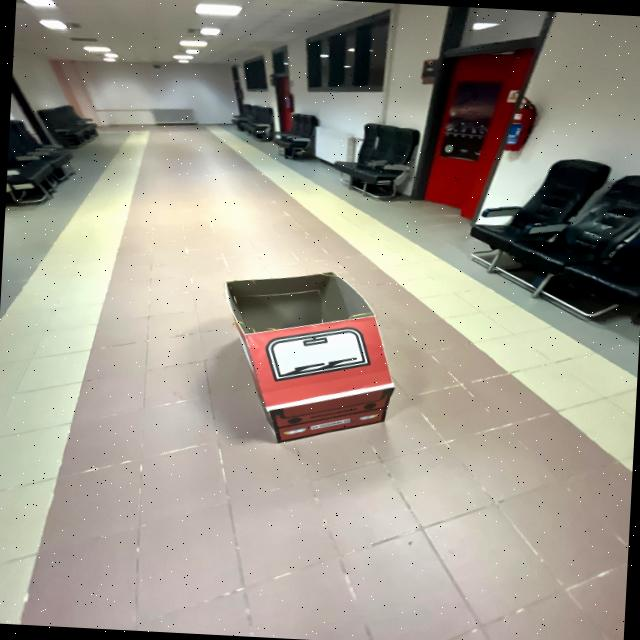red_car: (193, 256, 417, 467)
